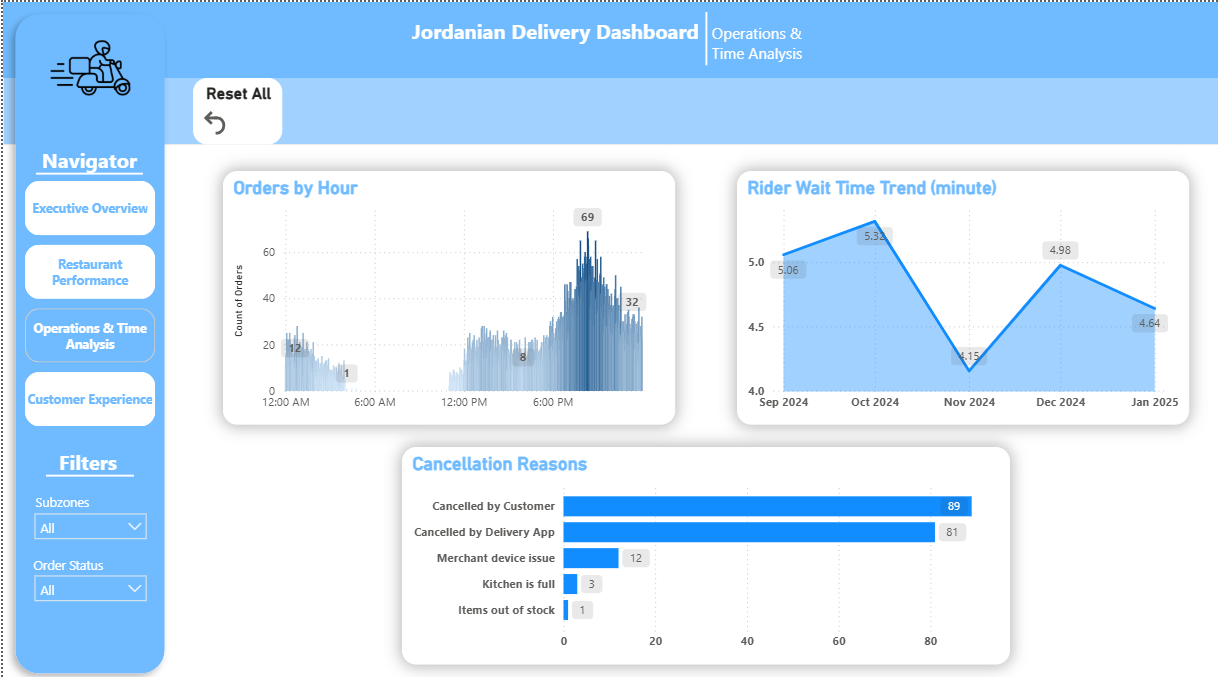

What the dashboard file says about the page in this screenshot:
{"tool":"powerbi","page":{"name":"Operations & Time Analysis","canvas":[1280,720],"ordinal":2},"visuals":[{"type":"textbox","box":[741.2,0,112,76.8],"z":0,"group":"g1"},{"type":"shape","box":[0,70,1280,80],"z":0},{"type":"shape","box":[0,0,1280,80],"z":1000},{"type":"shape","box":[703.8,10.9,74.5,56.2],"z":1000,"group":"g1"},{"type":"shape","box":[0,0,183.2,719.9],"z":2000},{"type":"textbox","box":[425.6,10.7,315.6,76.8],"z":2000,"group":"g1"},{"type":"clusteredColumnChart","title":"Orders by Hour","fields":{"Category":["order_history.Order Placed At (Hour)"],"Y":["CountNonNull(order_history.Order ID)"]},"box":[231.2,177.5,475.7,267.1],"z":2000,"group":"g2"},{"type":"image","box":[41.6,27.3,100.1,84.5],"z":3000},{"type":"textbox","box":[36.2,146.2,112.5,42.5],"z":4000},{"type":"pageNavigator","box":[23.4,188.4,137.7,258.6],"z":5000},{"type":"shape","box":[35,146.2,112.5,68.8],"z":6000},{"type":"textbox","box":[25.8,464.2,126.3,41.6],"z":7000},{"type":"slicer","title":"Subzones","fields":{"Values":["order_history.Subzones"]},"box":[23,528,138,46],"z":8000},{"type":"slicer","title":"Subzones","fields":{"Values":["order_history.Order Status"]},"box":[23,594,138,46],"z":9000},{"type":"textbox","box":[10,513,104,30],"z":10000},{"type":"textbox","box":[23,579,91,30],"z":11000},{"type":"shape","box":[45,463.8,92.5,68.8],"z":12000},{"type":"actionButton","title":"Reset All","box":[200,80,94.4,70],"z":13000},{"type":"group","id":"g1","title":"Group 4","box":[425.6,0,427.8,87.8],"z":14000},{"type":"group","id":"g2","title":"Group 1","box":[231.2,177.5,1017.1,519.4],"z":15000},{"type":"lineChart","title":"Rider Wait Time Trend (minute)","fields":{"Y":["order_history.Avg Rider Wait"],"Category":["order_history.Order Placed At.Variation.Date Hierarchy.Year","order_history.Order Placed At.Variation.Date Hierarchy.Quarter","order_history.Order Placed At.Variation.Date Hierarchy.Month"]},"box":[772.6,177.5,475.7,267.1],"z":17000,"group":"g2"},{"type":"clusteredBarChart","title":"Cancellation Reasons","fields":{"Category":["order_history.Cancellation / Rejection reason"],"Y":["CountNonNull(order_history.Order ID)"]},"box":[419.8,468.1,640,228.8],"z":18000,"group":"g2"}]}

Visuals, with their boxes in screenshot pixels (x1, y1, x2, y2), scaled from the page's 1280x720 canvas onto the 1218x677 screenshot:
textbox: 705:0:812:72
shape: 0:66:1217:141
shape: 0:0:1217:75
shape: 670:10:741:63
shape: 0:0:174:676
textbox: 405:10:705:82
"Orders by Hour" clusteredColumnChart: 220:167:673:418
image: 40:26:135:105
textbox: 34:137:141:177
pageNavigator: 22:177:153:420
shape: 33:137:140:202
textbox: 25:436:145:476
"Subzones" slicer: 22:496:153:540
"Subzones" slicer: 22:559:153:602
textbox: 10:482:108:511
textbox: 22:544:108:573
shape: 43:436:131:501
"Reset All" actionButton: 190:75:280:141
"Group 4" group: 405:0:812:83
"Group 1" group: 220:167:1188:655
"Rider Wait Time Trend (minute)" lineChart: 735:167:1188:418
"Cancellation Reasons" clusteredBarChart: 399:440:1008:655
